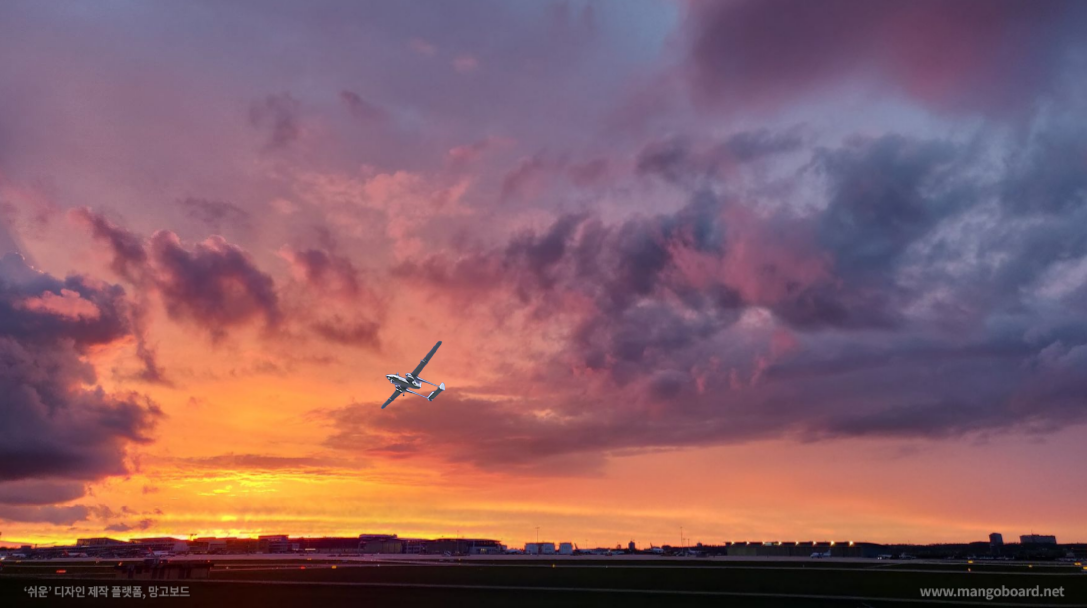military drone: (380, 340, 445, 408)
